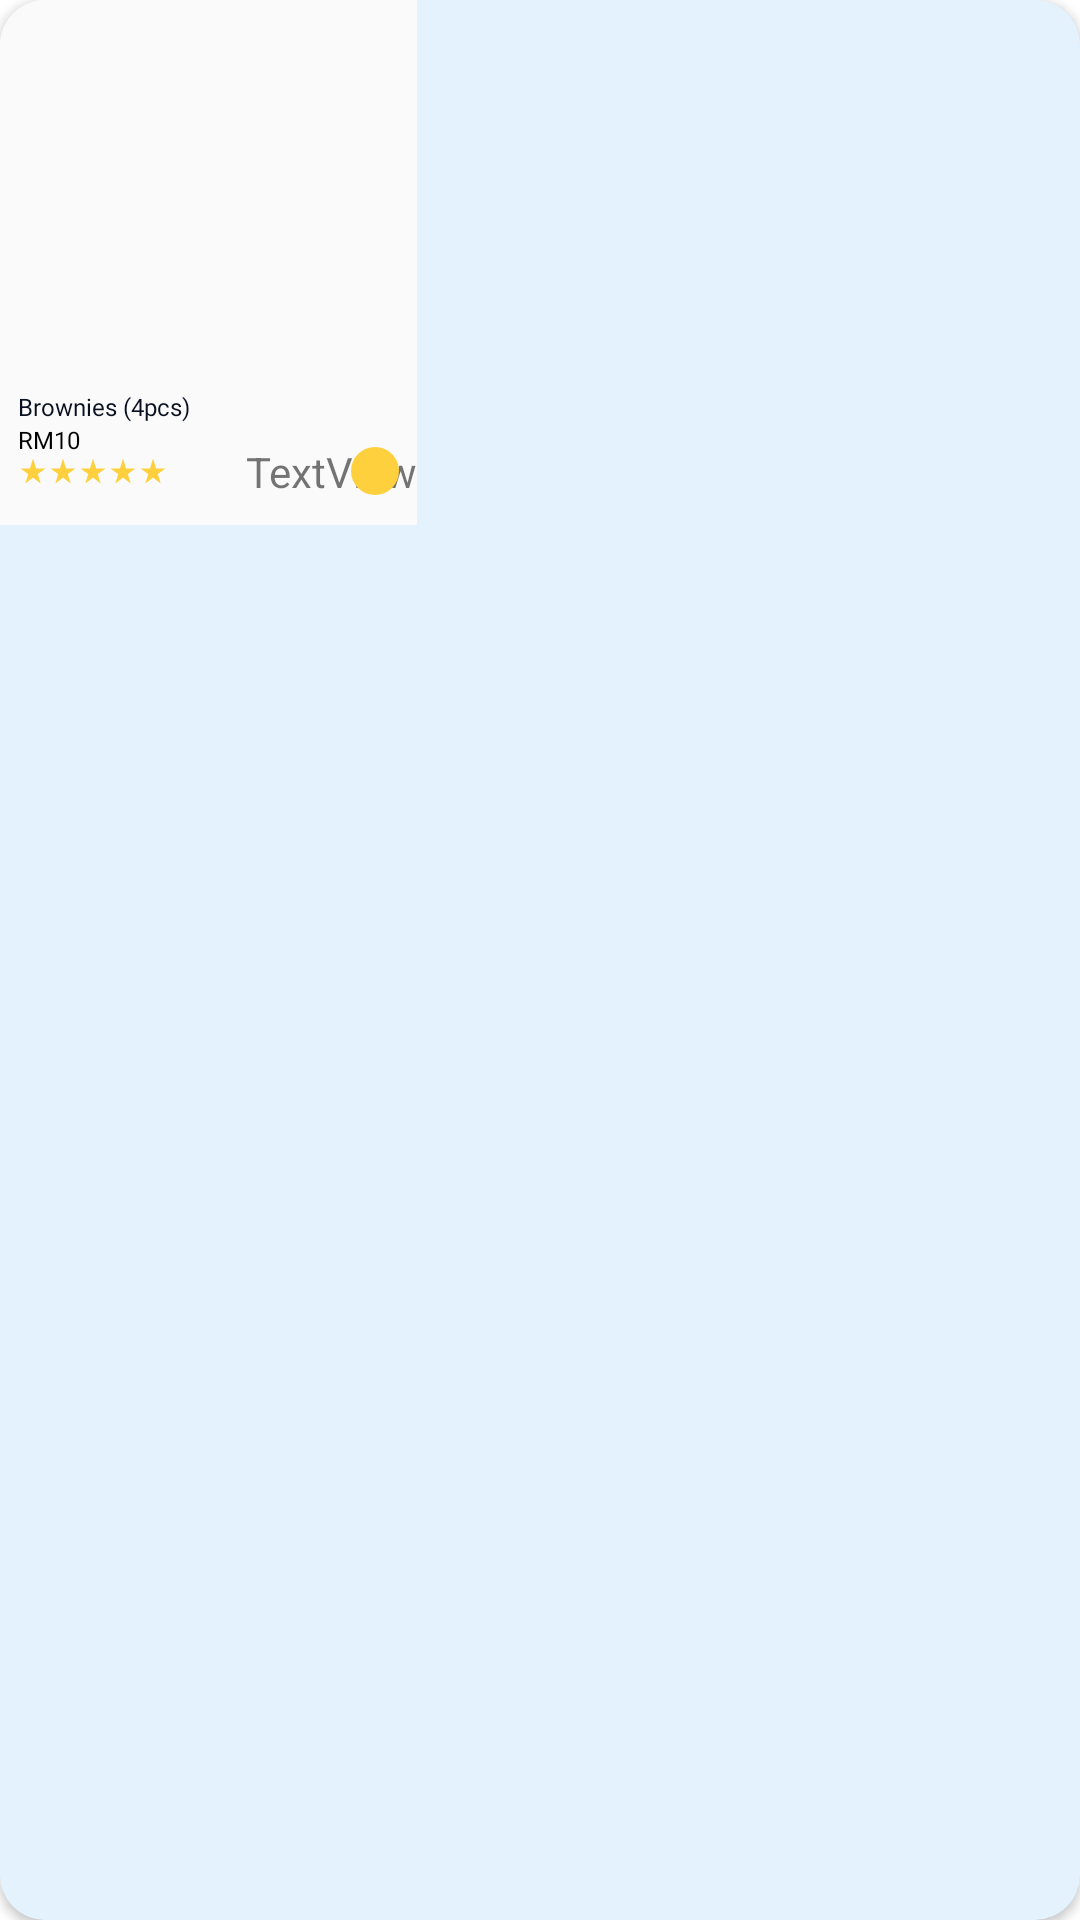

Icons on this 1080px x 1920px Android screen, each with its box as (x1,y1,x2,y2):
rating: (21,459,45,483), (51,459,75,483), (81,459,105,483), (111,459,135,483), (141,459,165,483)
